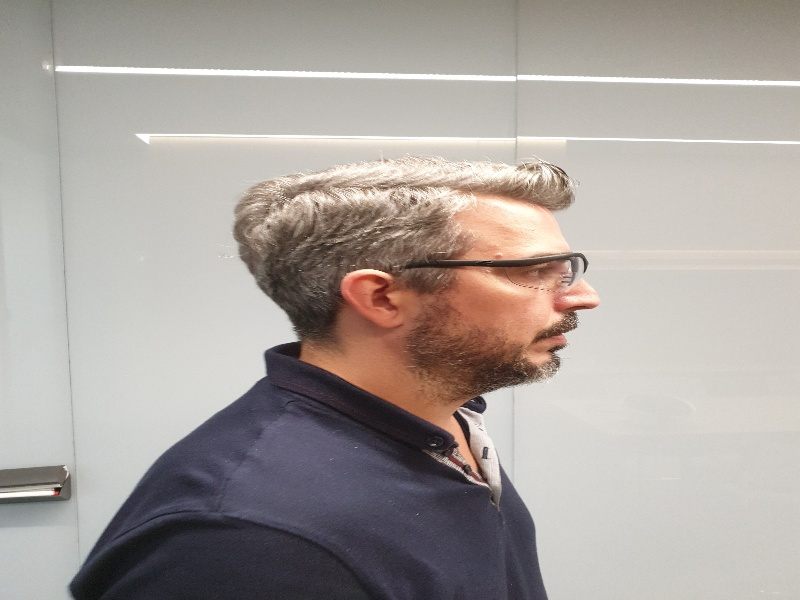Gozluk: (402, 253, 590, 292)
